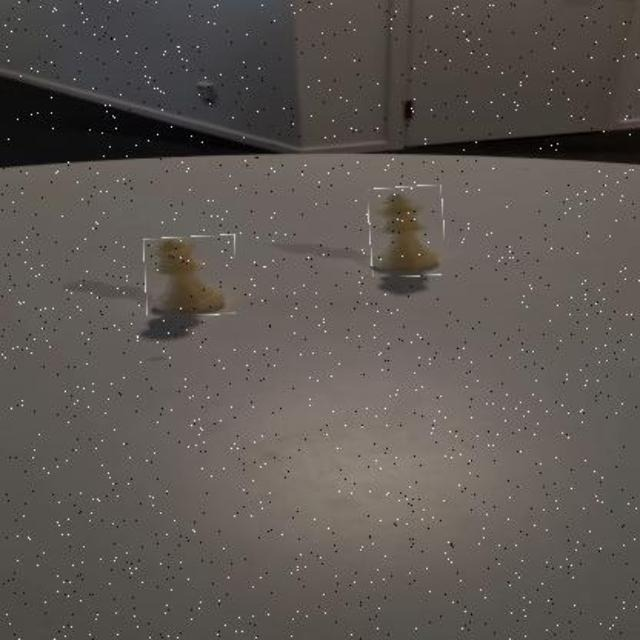white-king: (370, 186, 446, 278)
white-queen: (144, 236, 236, 316)
